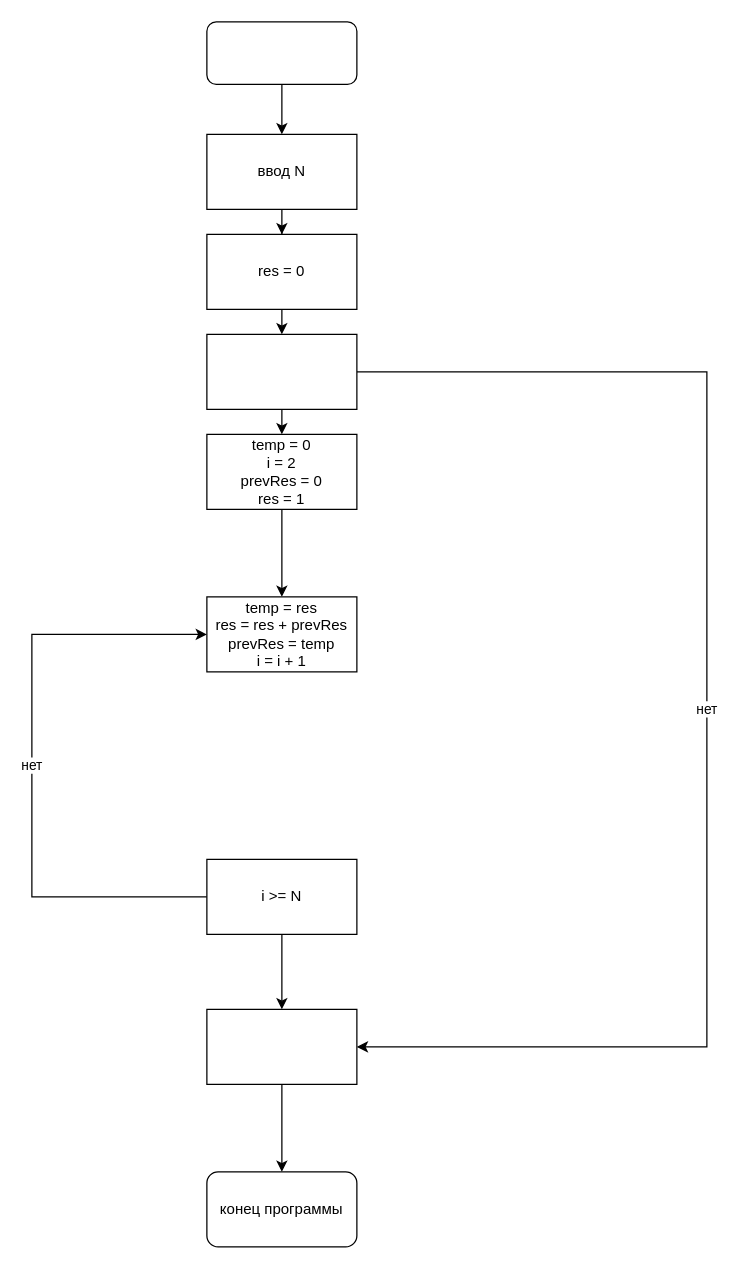
Image size: 739x1269. Some labels were removed from this diagram. Each missing label, with the box of its shape:
N > 1: (206, 333, 357, 409)
вывод res: (206, 1008, 357, 1084)
старт: (206, 21, 357, 84)
